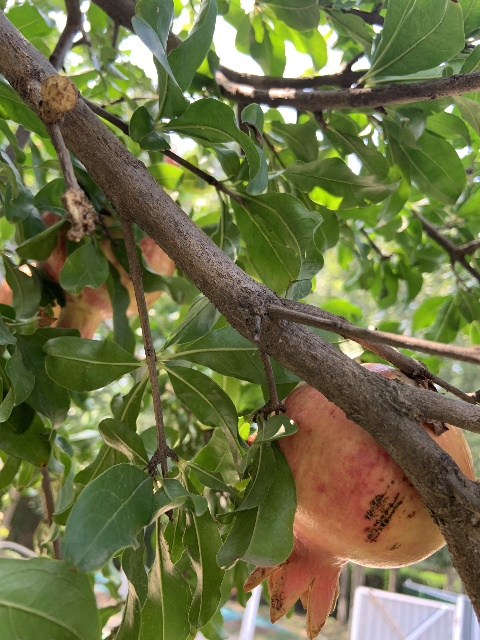ripe: (244, 363, 475, 640), (38, 210, 176, 341)
